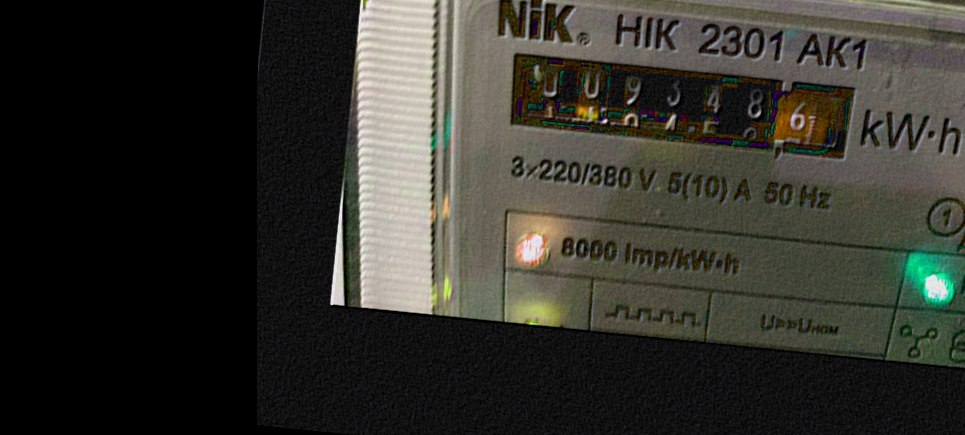0: (581, 65, 605, 103), (540, 63, 563, 100)
3: (663, 74, 688, 108)
4: (702, 78, 726, 117)
6: (788, 97, 813, 133)
8: (745, 84, 768, 120)
9: (624, 70, 645, 106)
screen: (484, 36, 877, 176)
